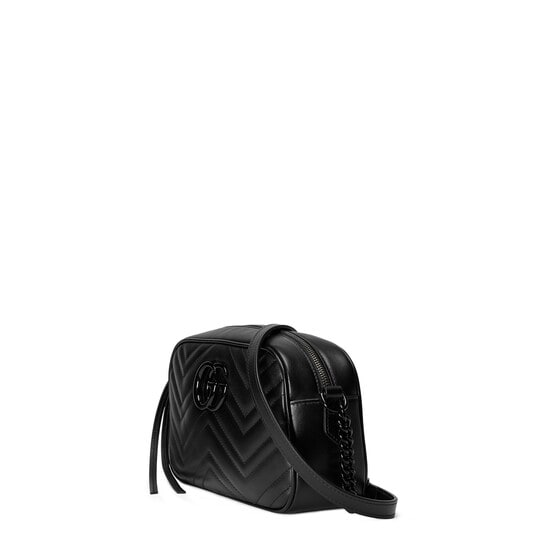Gucci: (136, 315, 397, 519), (197, 356, 224, 421)
